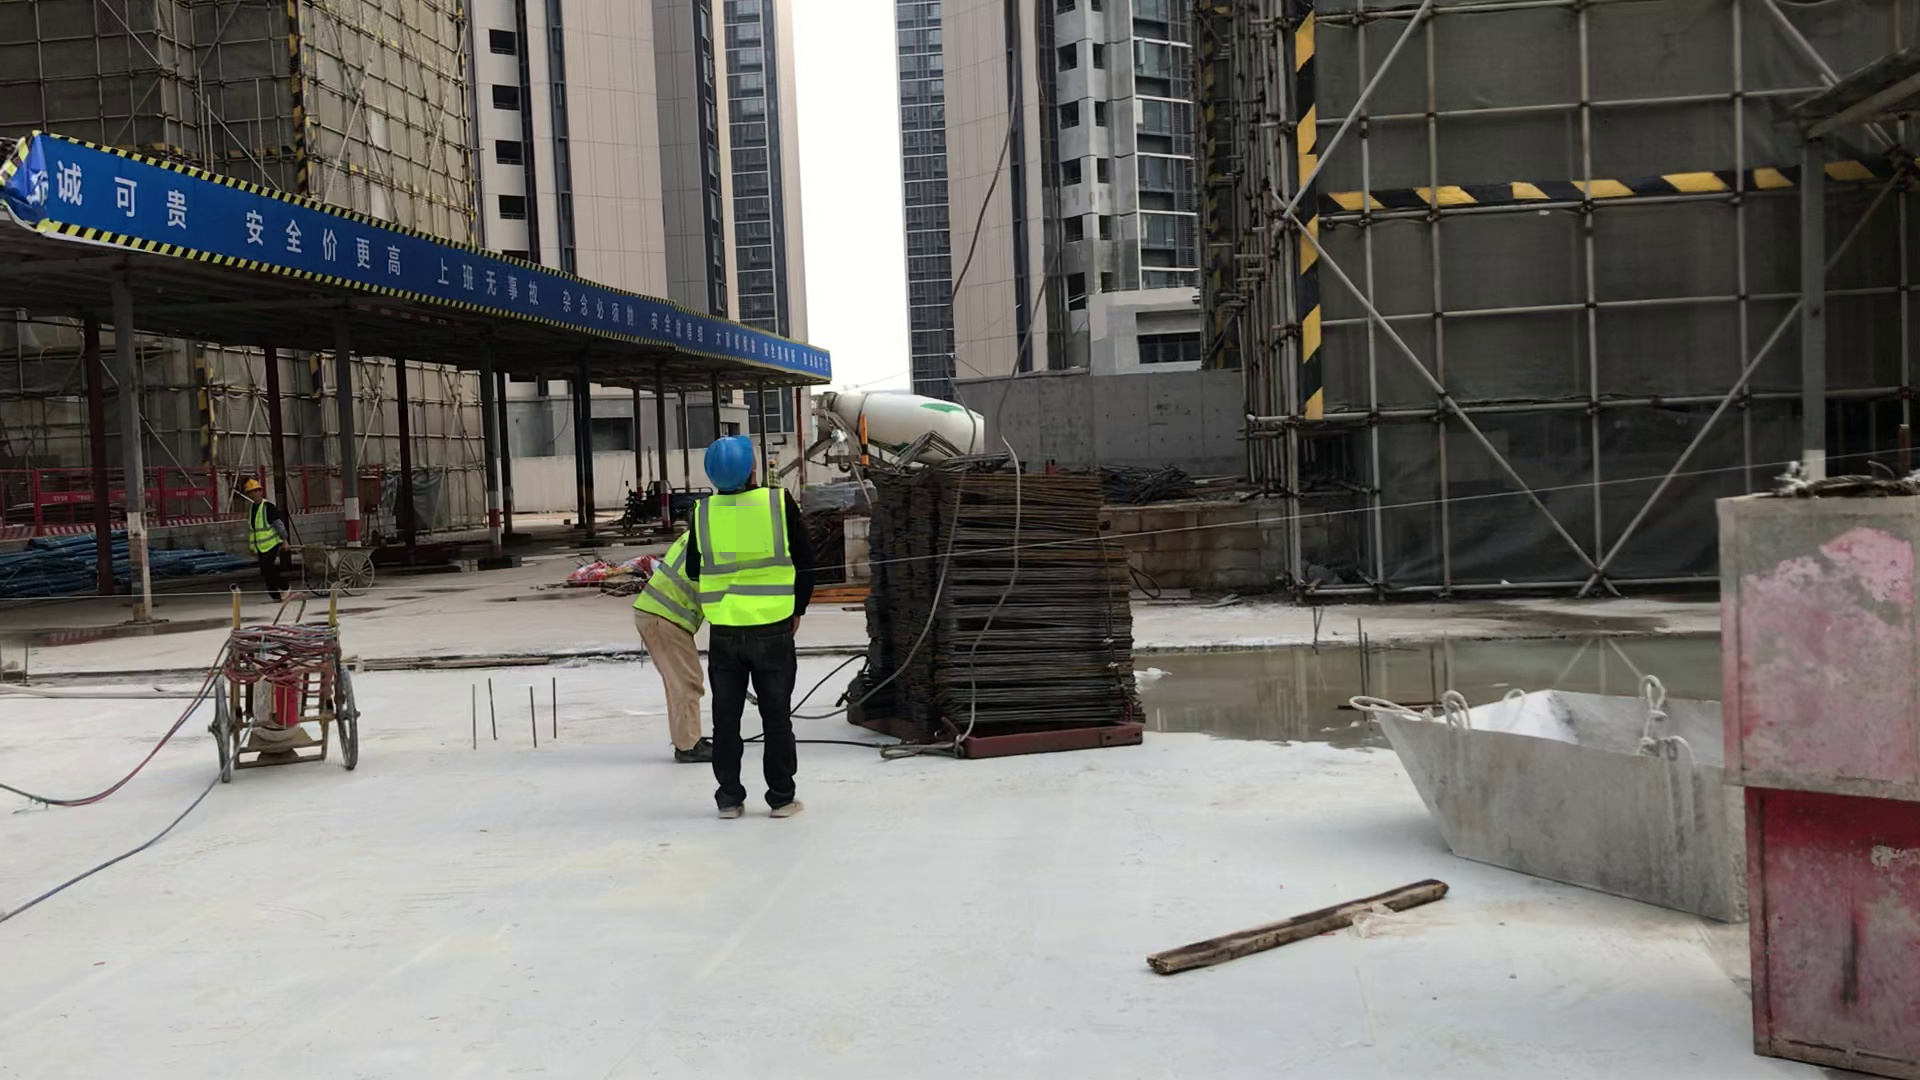ebox: (358, 472, 381, 511)
fence: (1, 463, 396, 546)
handcart: (297, 535, 381, 597)
helmet: (701, 436, 755, 486), (242, 479, 268, 495), (767, 459, 776, 468)
hopper: (1365, 658, 1749, 928)
person: (691, 432, 810, 823), (632, 526, 719, 762), (238, 479, 296, 605), (763, 454, 785, 490)
vest: (694, 494, 800, 625), (632, 526, 701, 628), (245, 499, 283, 555), (766, 468, 781, 487)
